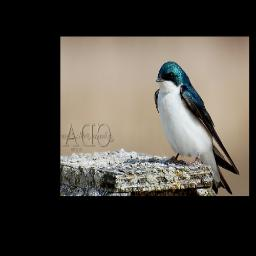Swallow: (154, 61, 240, 195)
